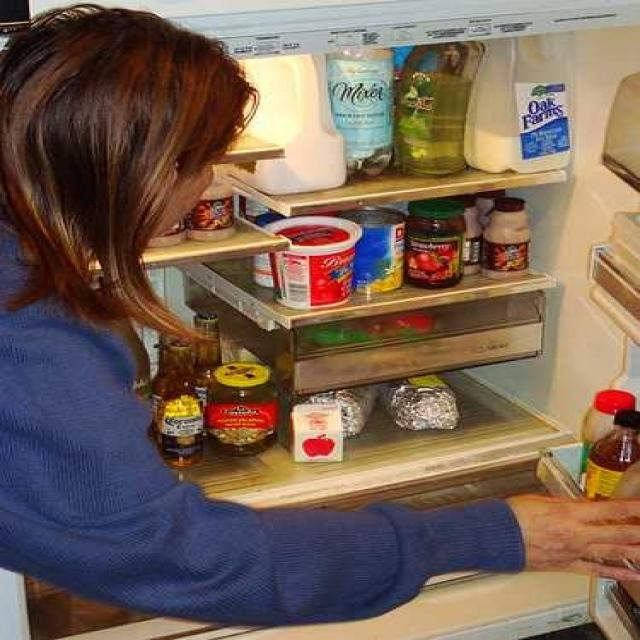refrigerator: (25, 0, 640, 640)
